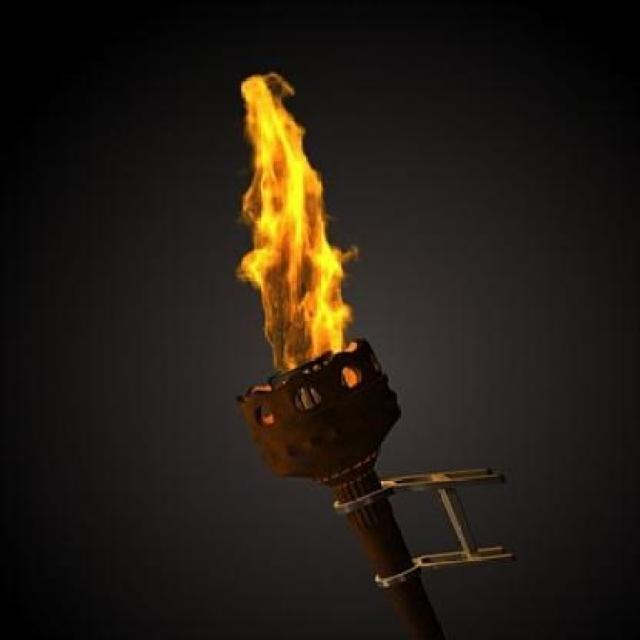Fire: (228, 73, 356, 370)
